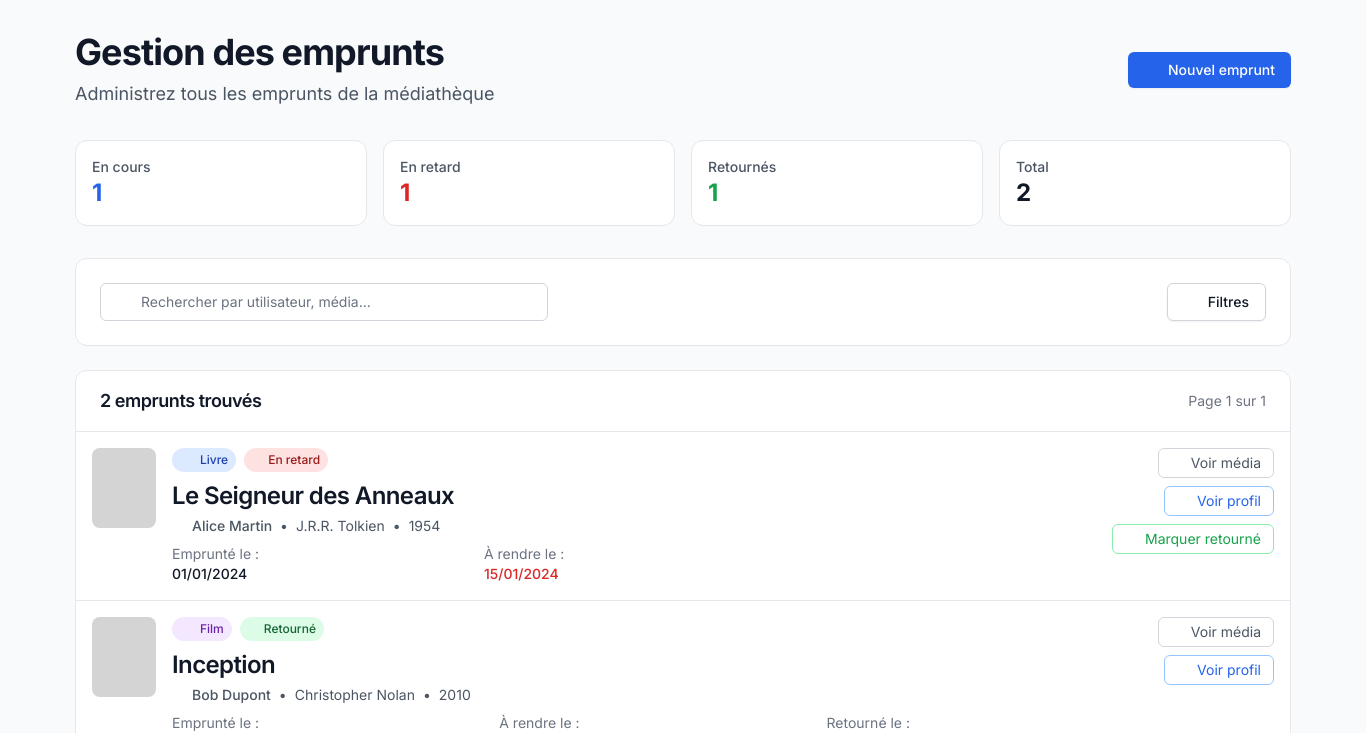
Test: AdminBorrowsPage › Gestion des filtres › permet d'effacer tous les filtres
Click the button with test id "filter-button". click: (1216, 302)
box: [1167,283,1266,321]
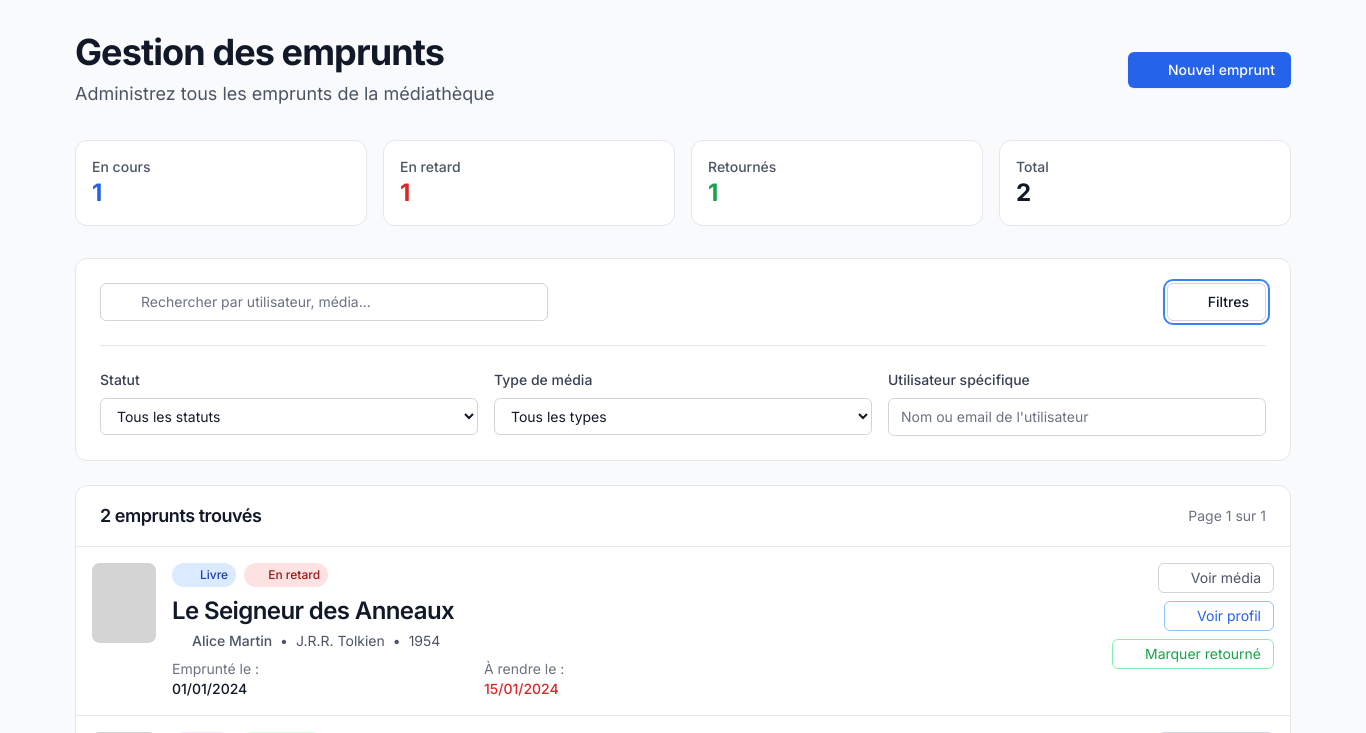
Select "En cours" in the dropdown with test id "status-filter". click: (289, 416)
box: [100,398,478,435]
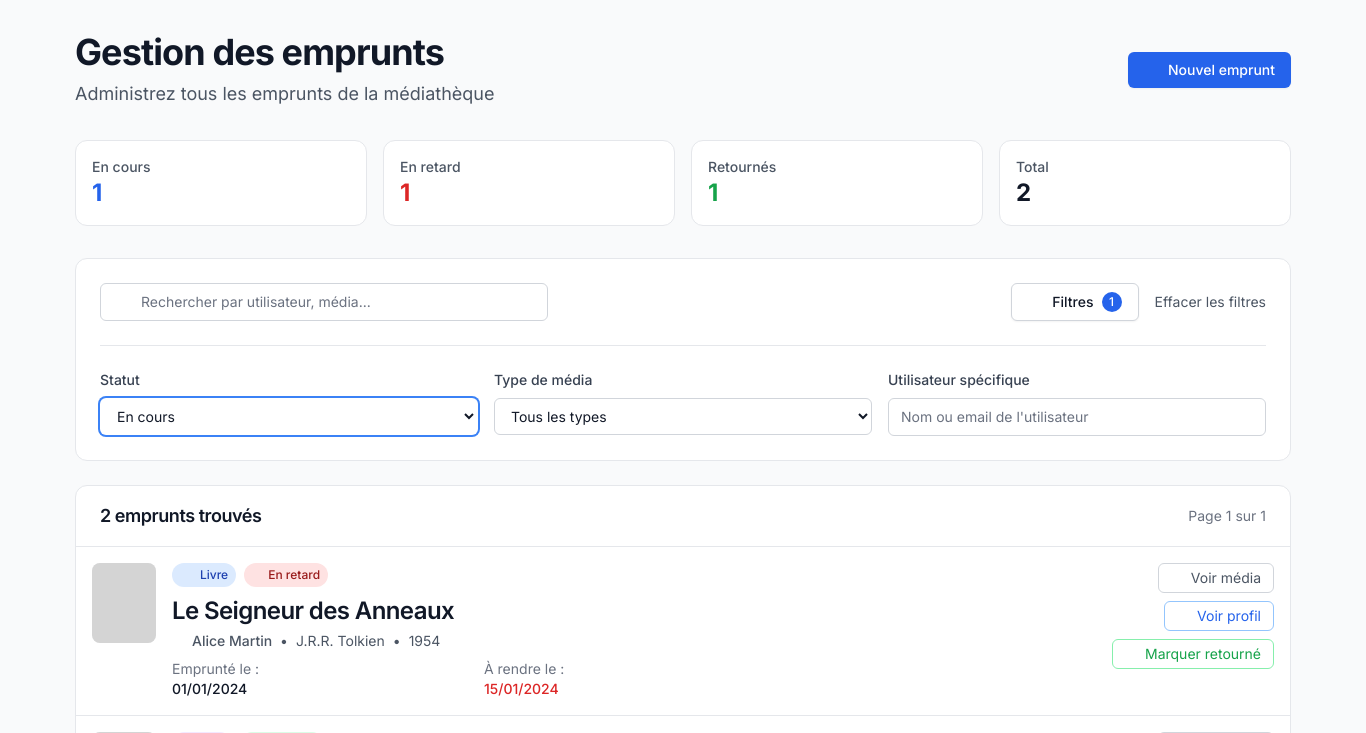
Click the button with test id "clear-filters". click: (1210, 302)
box: [1154,292,1266,312]
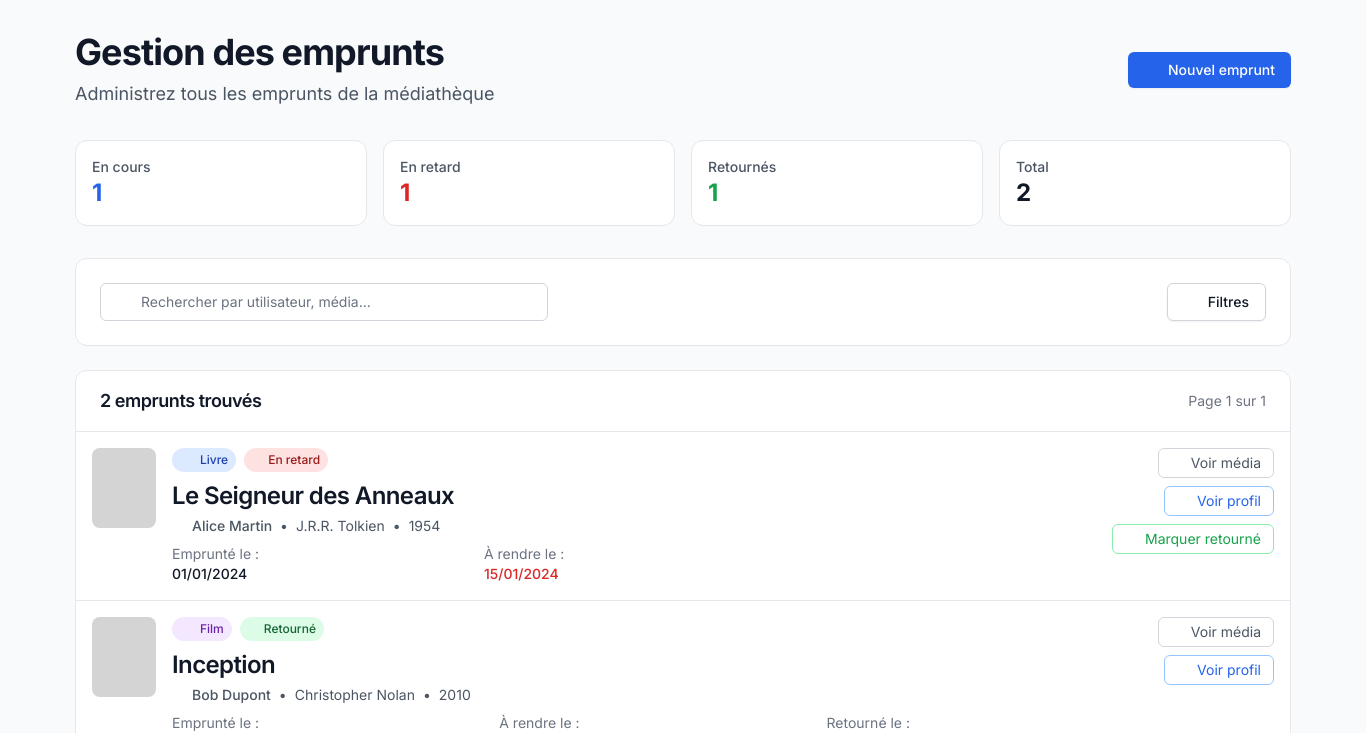
Expected: the dropdown with test id "status-filter" is gone
Expected: the button with test id "clear-filters" is gone
